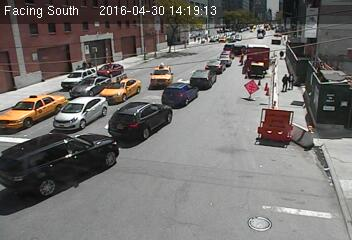neg: (223, 174, 260, 225), (146, 166, 182, 213), (201, 94, 234, 139), (45, 196, 73, 234), (120, 107, 143, 139), (282, 172, 305, 203), (205, 52, 227, 82), (29, 98, 51, 127), (46, 146, 64, 170), (150, 65, 167, 88), (177, 88, 186, 100)
pos: (276, 71, 292, 92), (287, 72, 300, 90), (237, 50, 250, 67), (84, 58, 95, 72), (80, 59, 90, 73)
